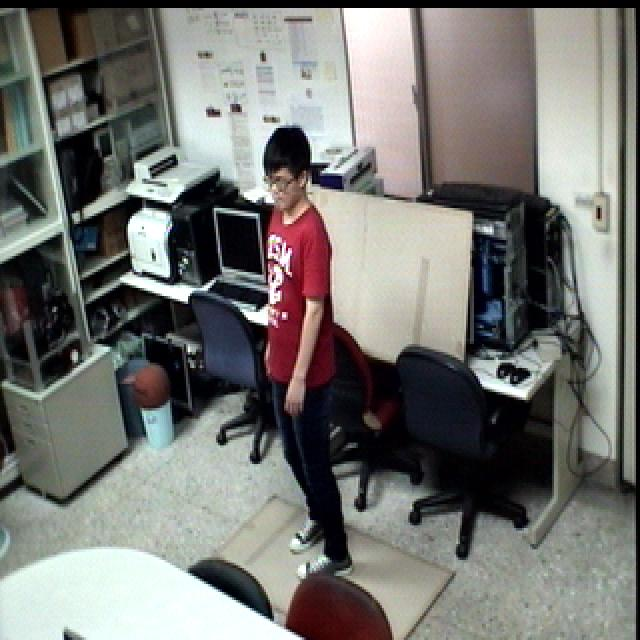stand: (247, 119, 360, 589)
